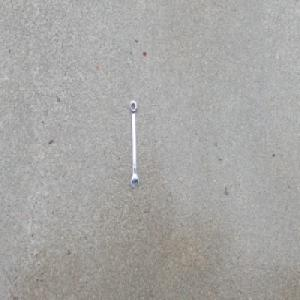Wrench: (129, 96, 139, 189)
